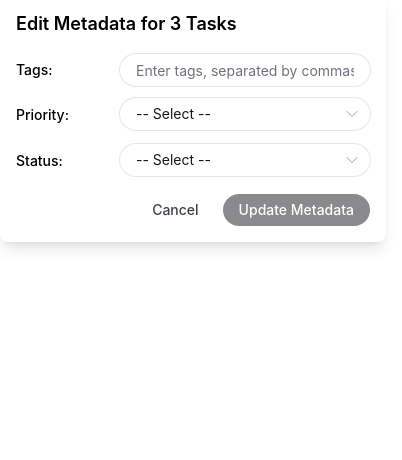
Test case: BulkMetadataEditor › removes tags metadata when tags field is cleared
Type "tag1" into the field with placeholder "Enter tags, separated by commas" at (245, 70), box [120,54,370,86]
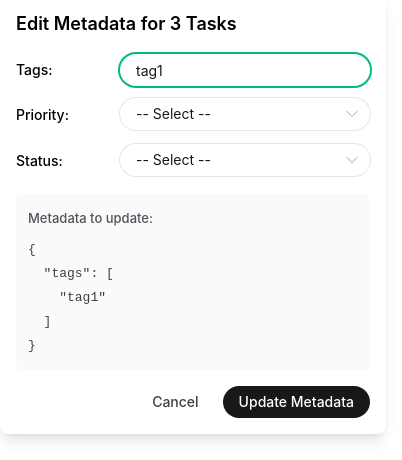
Clear the field with placeholder "Enter tags, separated by commas" at (245, 70), box [120,54,370,86]
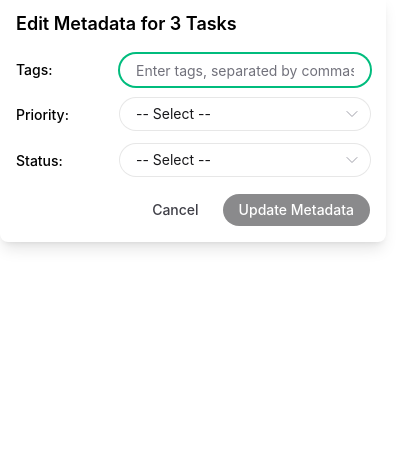
Now the button "Update Metadata" is disabled, box [223,194,370,226]
